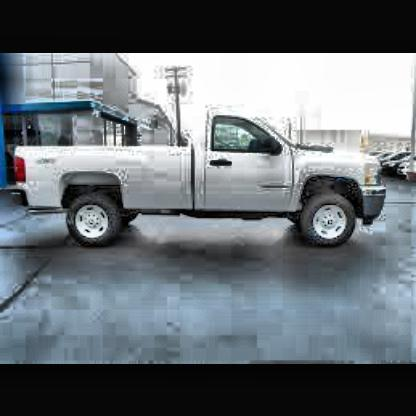Chevrolet Silverado 2500HD Regular Cab 2012: (11, 107, 390, 251)
